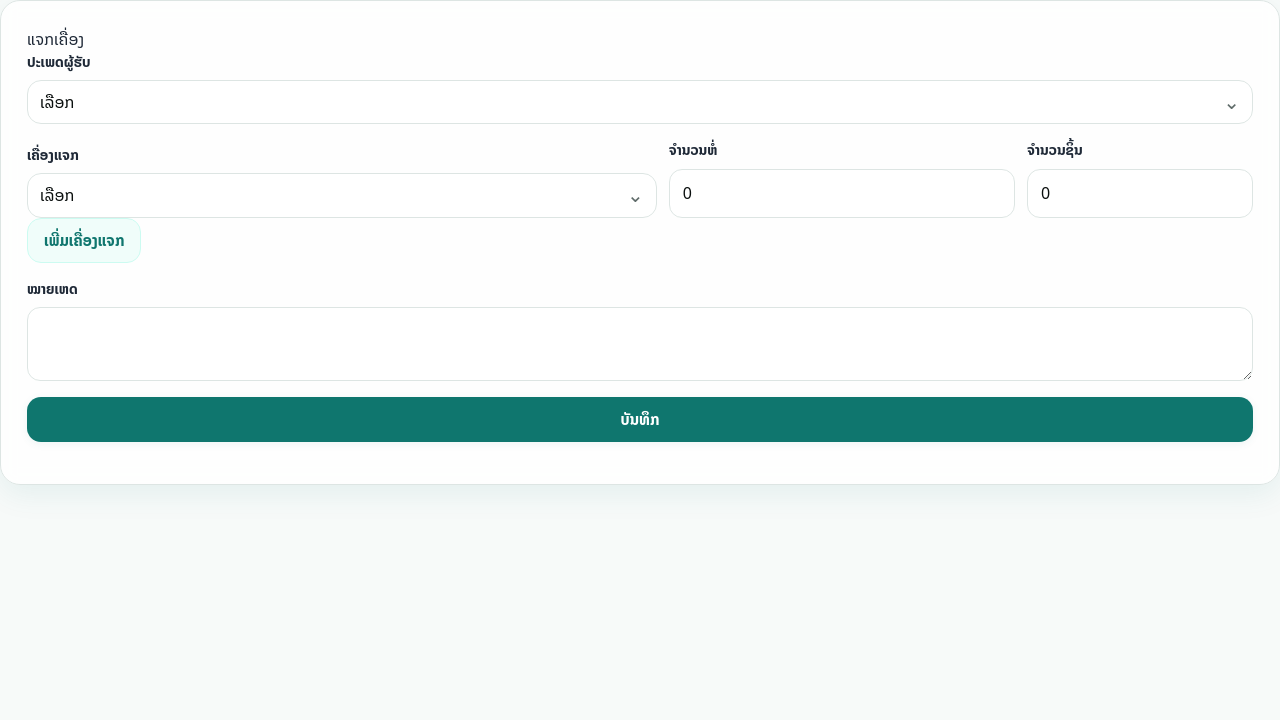
GiftDistributionForm › requires exactly one Customer or Campaign and prevents duplicate gifts
Click the button "ບັນທຶກ". click: (640, 419)
box: left=27, top=397, right=1253, bottom=442
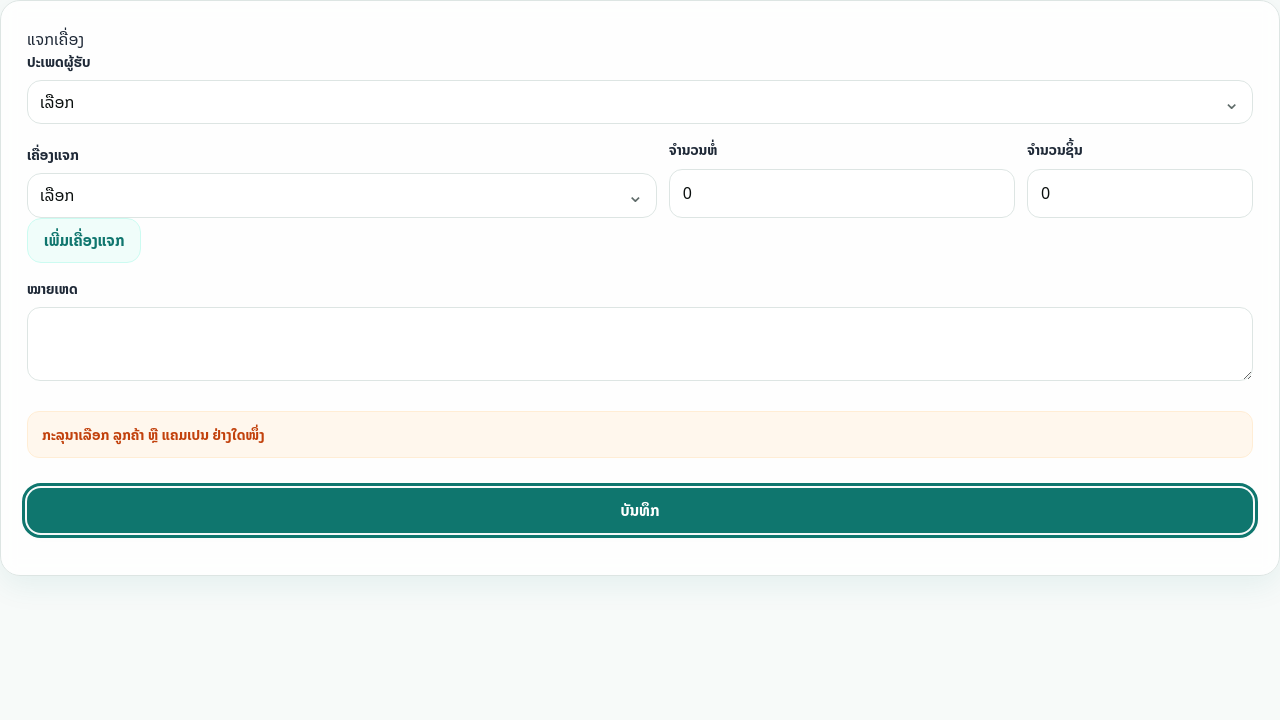
Expected: the message shows "ລູກຄ້າ ຫຼື ແຄມເປນ", left=42, top=423, right=264, bottom=446
Click the dropdown named "ເຄື່ອງແຈກ". click: (57, 195)
box: left=27, top=173, right=657, bottom=218
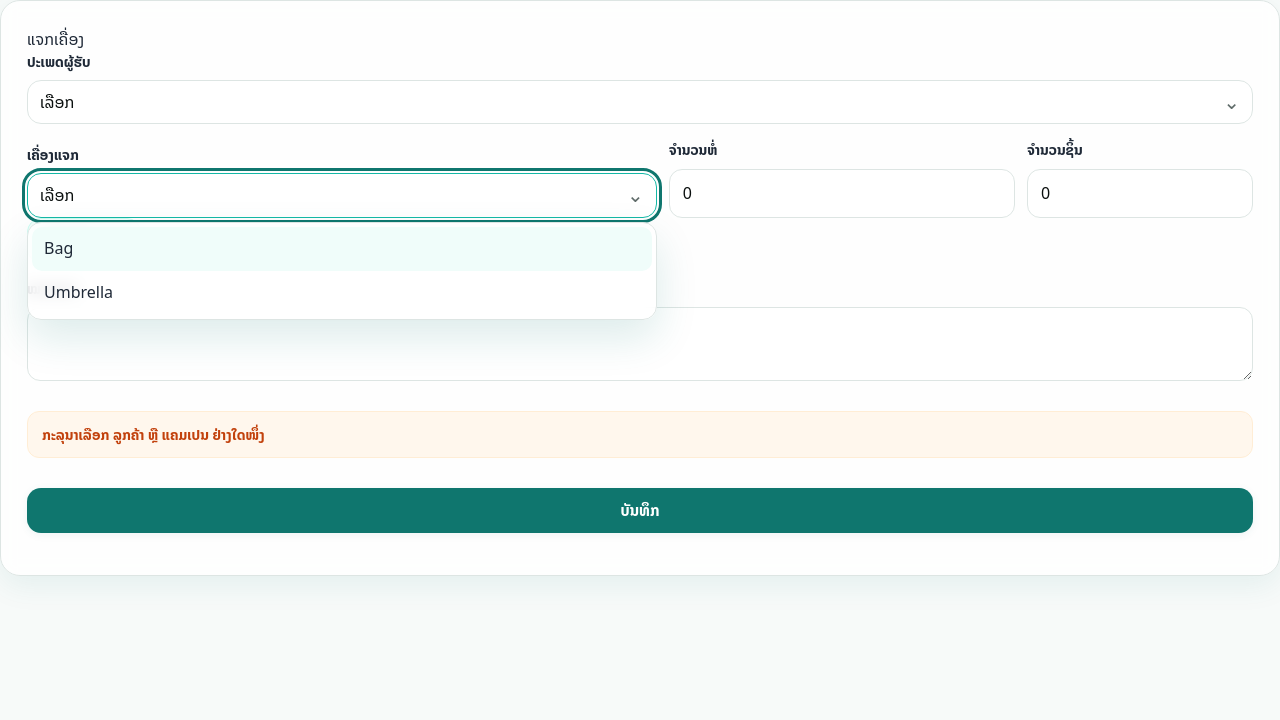
Click the option "Umbrella". click: (79, 292)
box: left=32, top=271, right=652, bottom=315
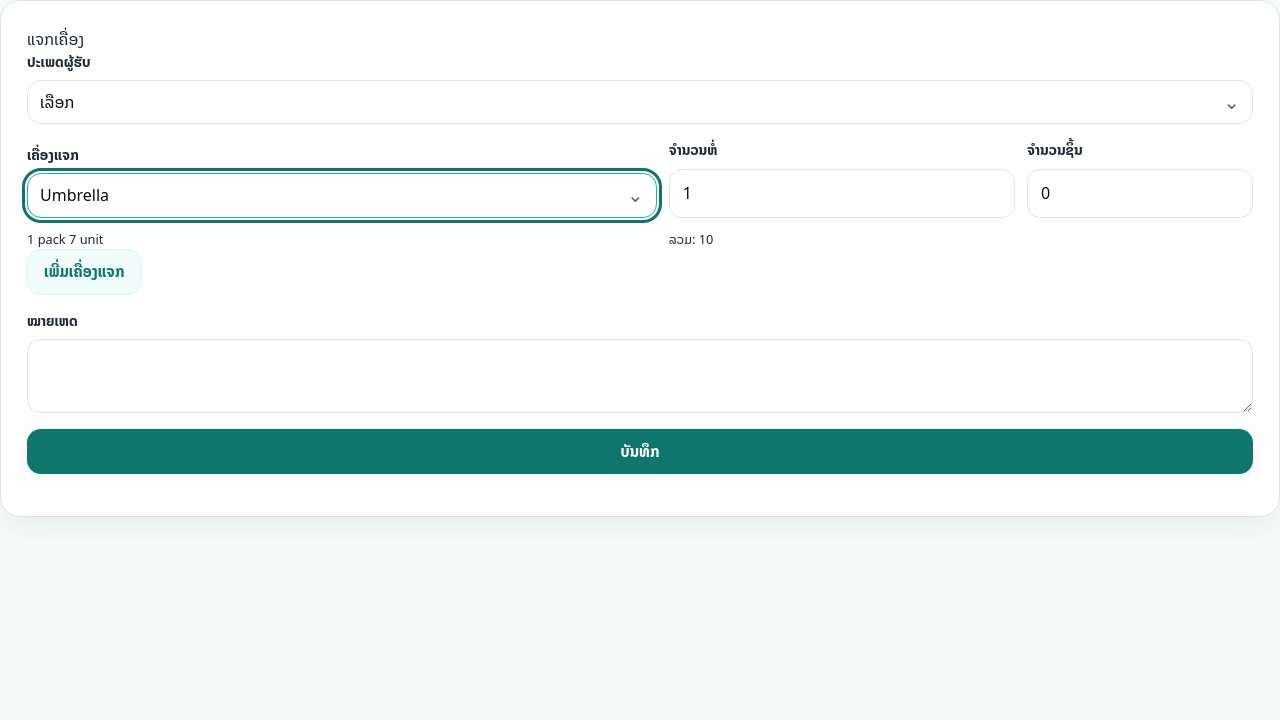
Click the button "ເພີ່ມເຄື່ອງແຈກ". click: (84, 272)
box: left=27, top=249, right=142, bottom=295
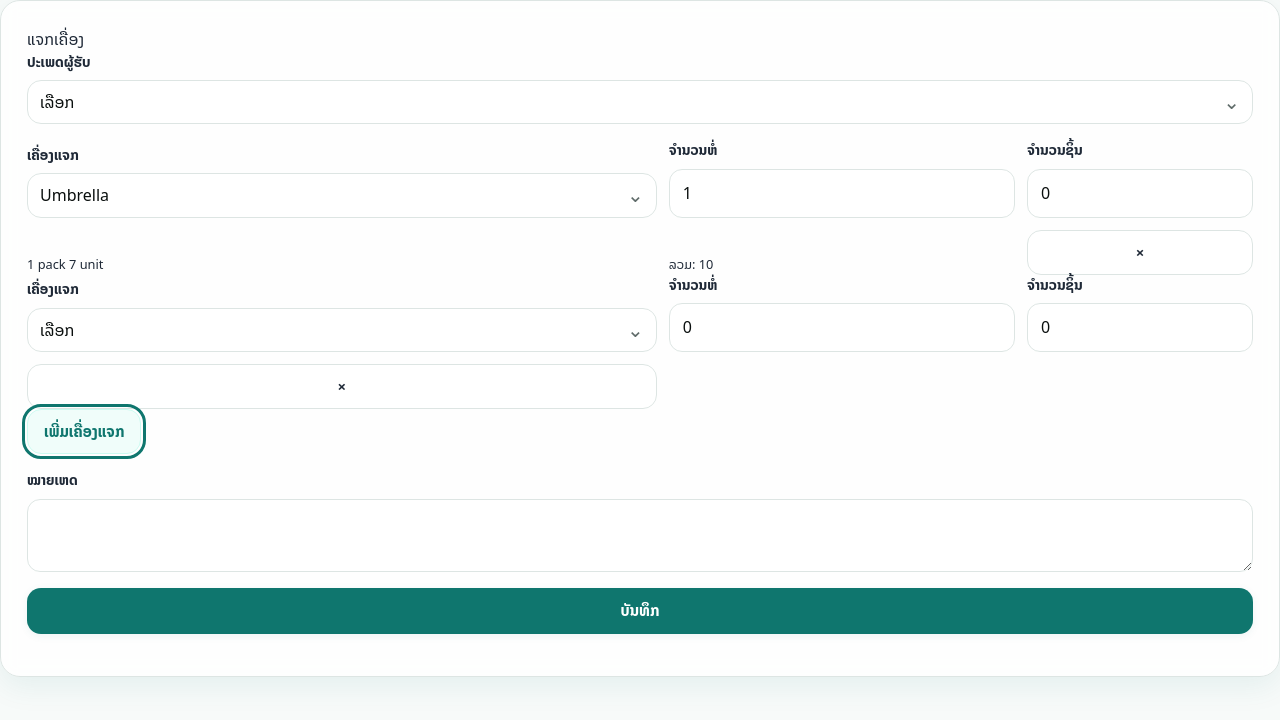
Click the dropdown named "ເຄື່ອງແຈກ". click: (57, 330)
box: left=27, top=308, right=657, bottom=352
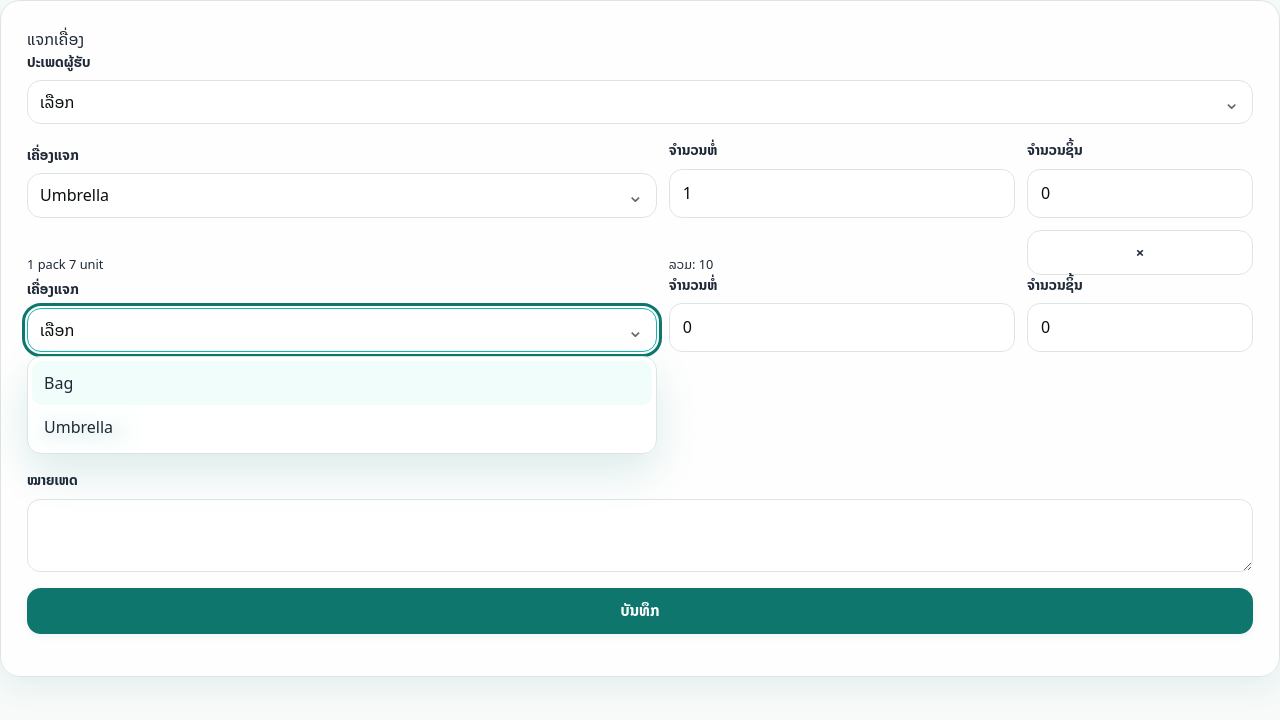
Click the option "Umbrella". click: (79, 427)
box: left=32, top=405, right=652, bottom=449
(page scrolled)
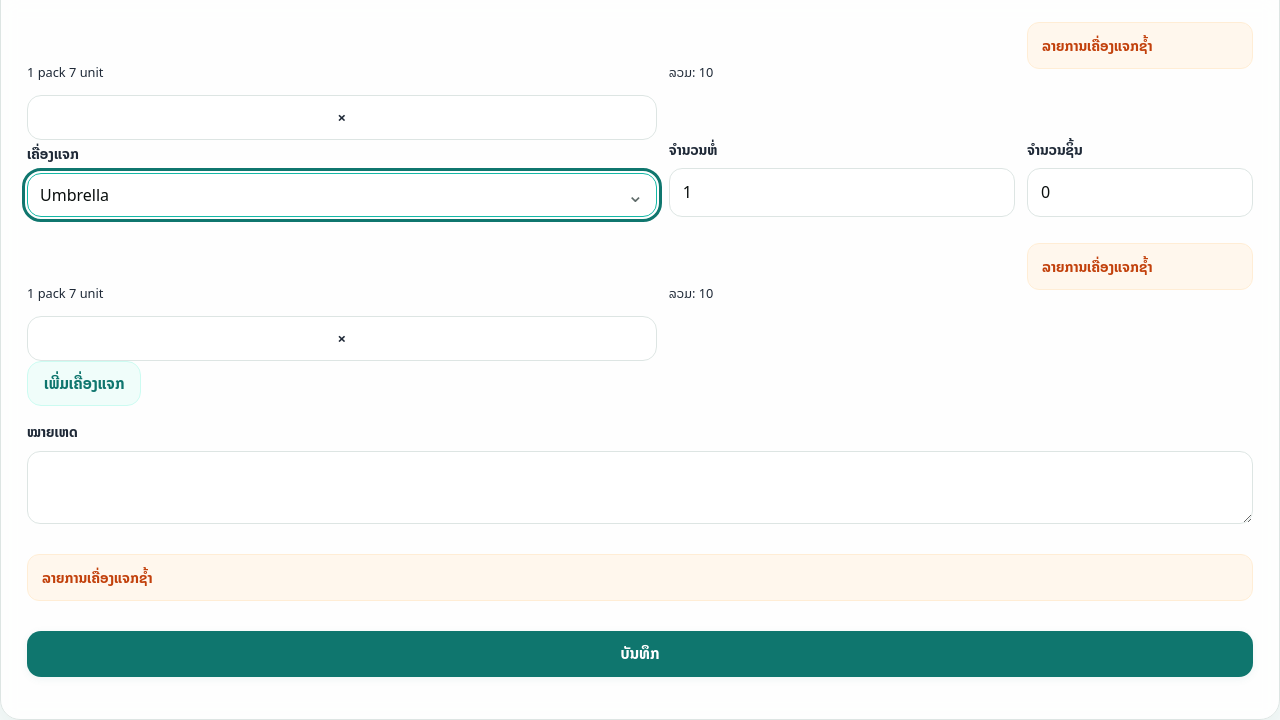
Expected: the message shows "ຊ້ຳ", left=27, top=554, right=1253, bottom=601
